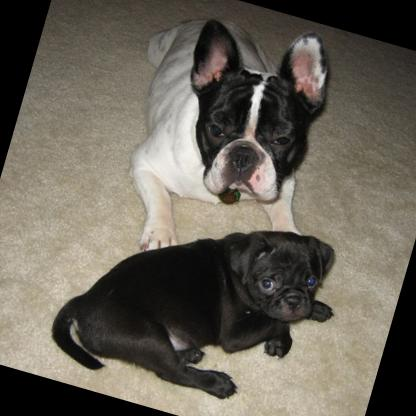French_bulldog: (91, 0, 357, 290), (43, 171, 352, 416)
